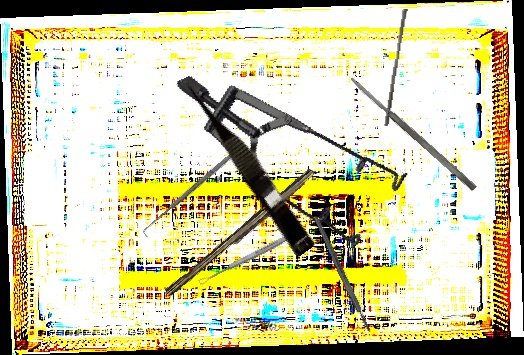Hook Surgical: (139, 149, 240, 239)
Micro Scissor: (178, 72, 321, 258)
Pusher: (384, 8, 408, 127)
Scalpel Handle: (164, 165, 318, 302), (312, 214, 373, 334)
Spatula Surgical: (348, 74, 478, 193)
Speculum: (175, 12, 426, 286)
Surgical Spoon: (197, 227, 304, 286)
